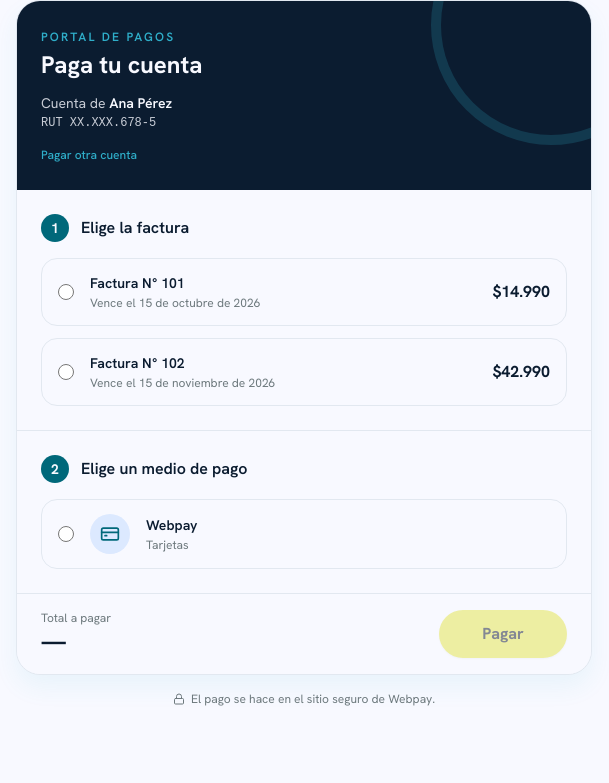
Test: PortalDePagos › Excepción 1: si el medio no está disponible, lo informa
This screenshot has width=609, height=783.
Click the radio button labelled "Factura N° 101 Vence el 15 de octubre de 2026 $14.990".
click(66, 292)  # box [58,284,74,300]
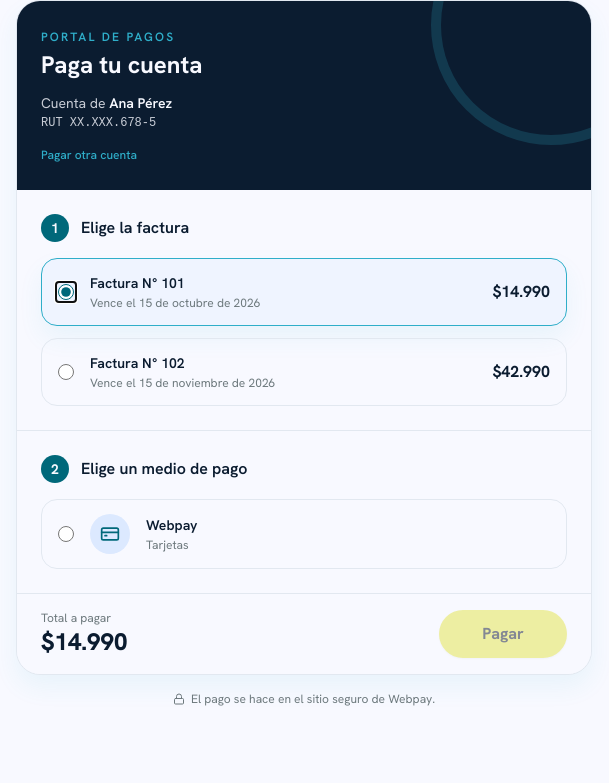
Click the radio button labelled "Webpay Tarjetas".
click(66, 534)  # box [58,526,74,542]
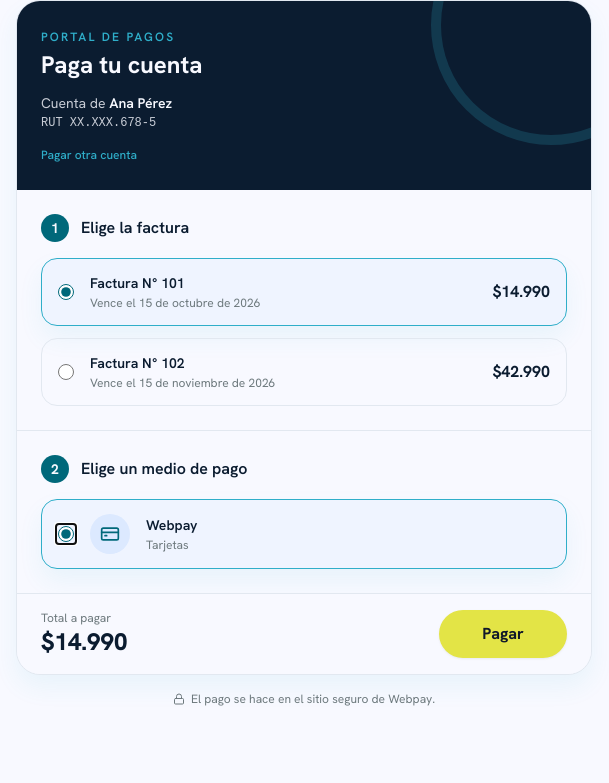
Click the button "Pagar".
click(503, 634)  # box [439,610,567,658]
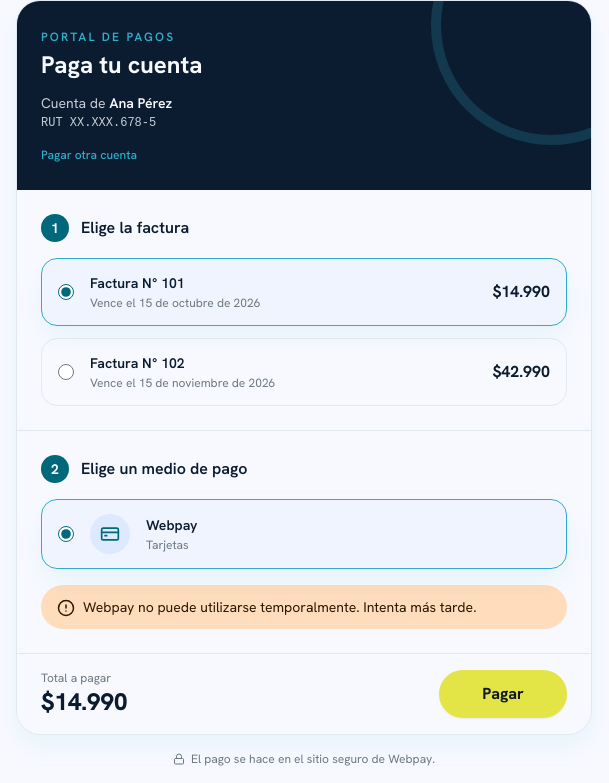
expect the message shows "Webpay no puede utilizarse temporalmente": met, box [83,598,476,616]
